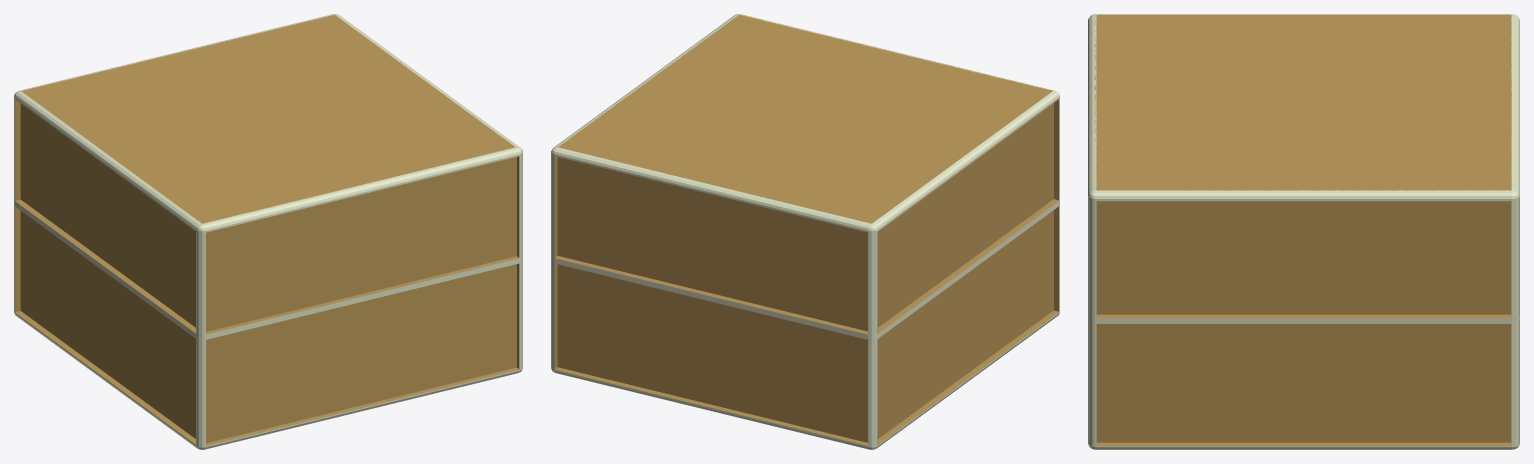
File: edgeColorStool02.glb
The picture shows the model from 3 angles, left to right: view 1: azimuth 30°, elevation 25°; view 2: azimuth 150°, elevation 25°; view 3: azimuth 270°, elevation 25°; orthographic projection. The views are drawn at different scales.
Parts seen in each view (by area): view 1: edgeColorStool02; view 2: edgeColorStool02; view 3: edgeColorStool02.
Part boxes in pixels (x1,y1,x2,y2): edgeColorStool02: [14, 14, 522, 449]; edgeColorStool02: [551, 14, 1059, 449]; edgeColorStool02: [1088, 14, 1519, 449].
Bounding box in the file's own units: 5.3 × 3.5 × 5.3.
